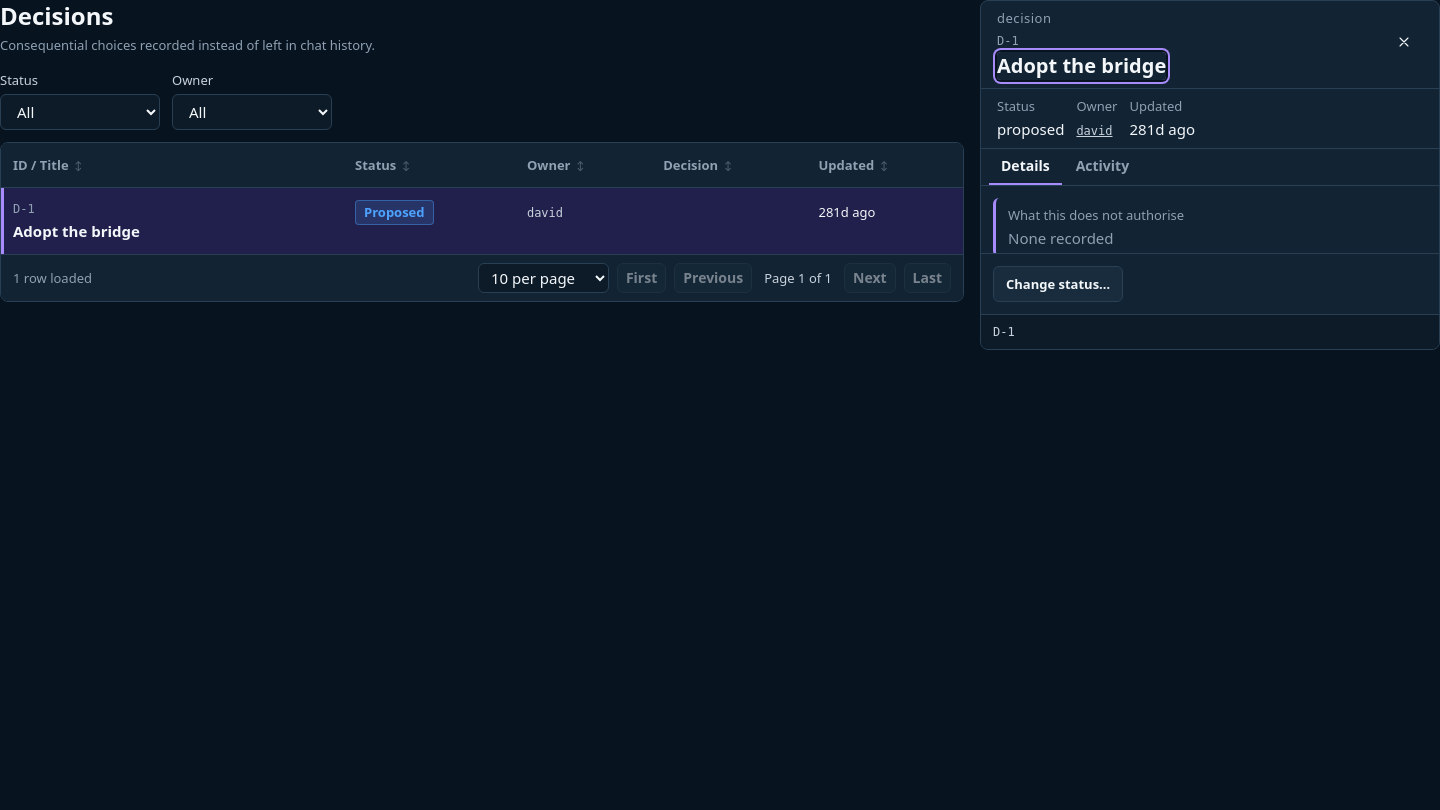
Test: the decision status dialog › returns focus to its opener after a successful submit
This screenshot has width=1440, height=810.
Click the button "Change status…" at (1058, 284), box [993,266,1123,302]
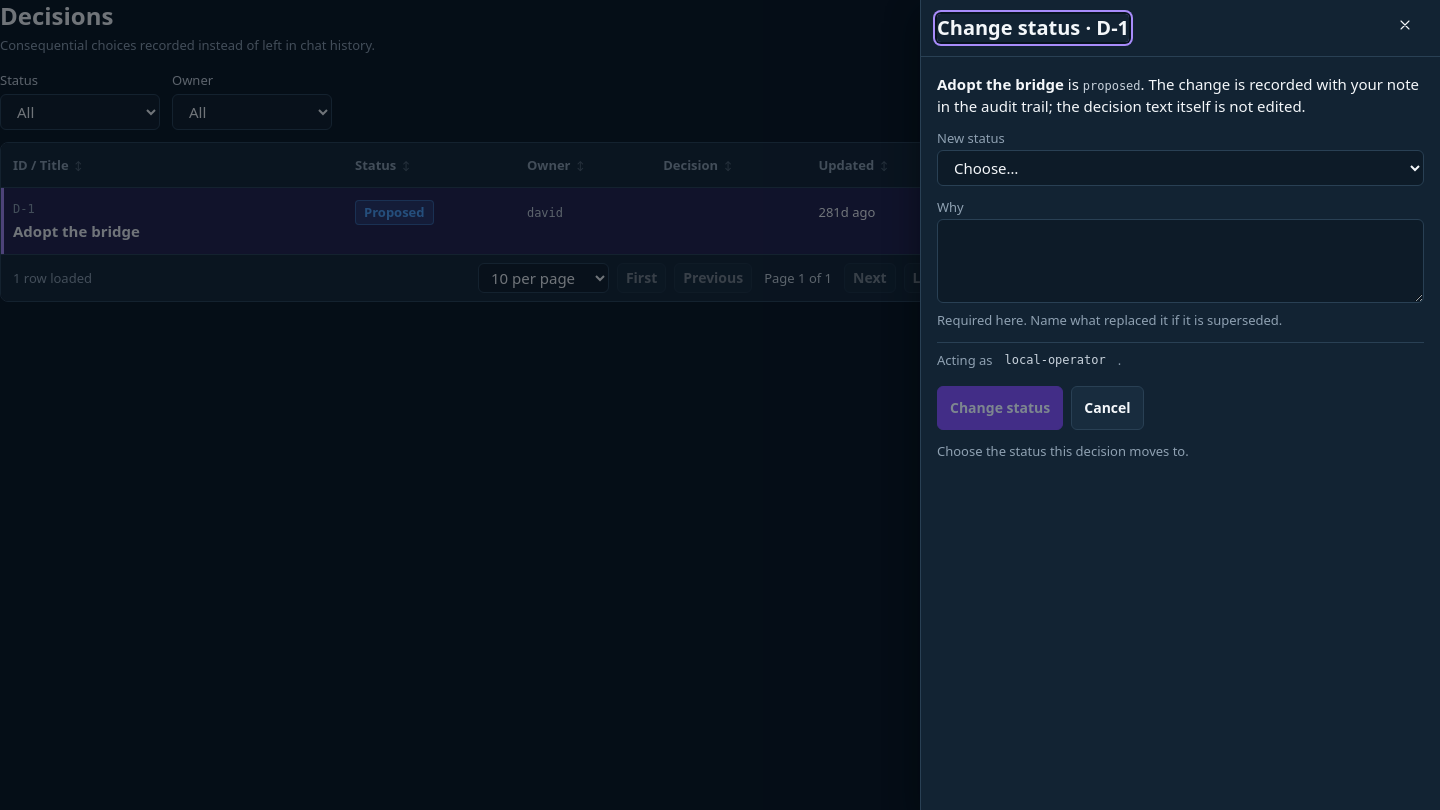
Select "superseded" in the dropdown labelled "New status" at (1180, 168), box [937,150,1424,186]
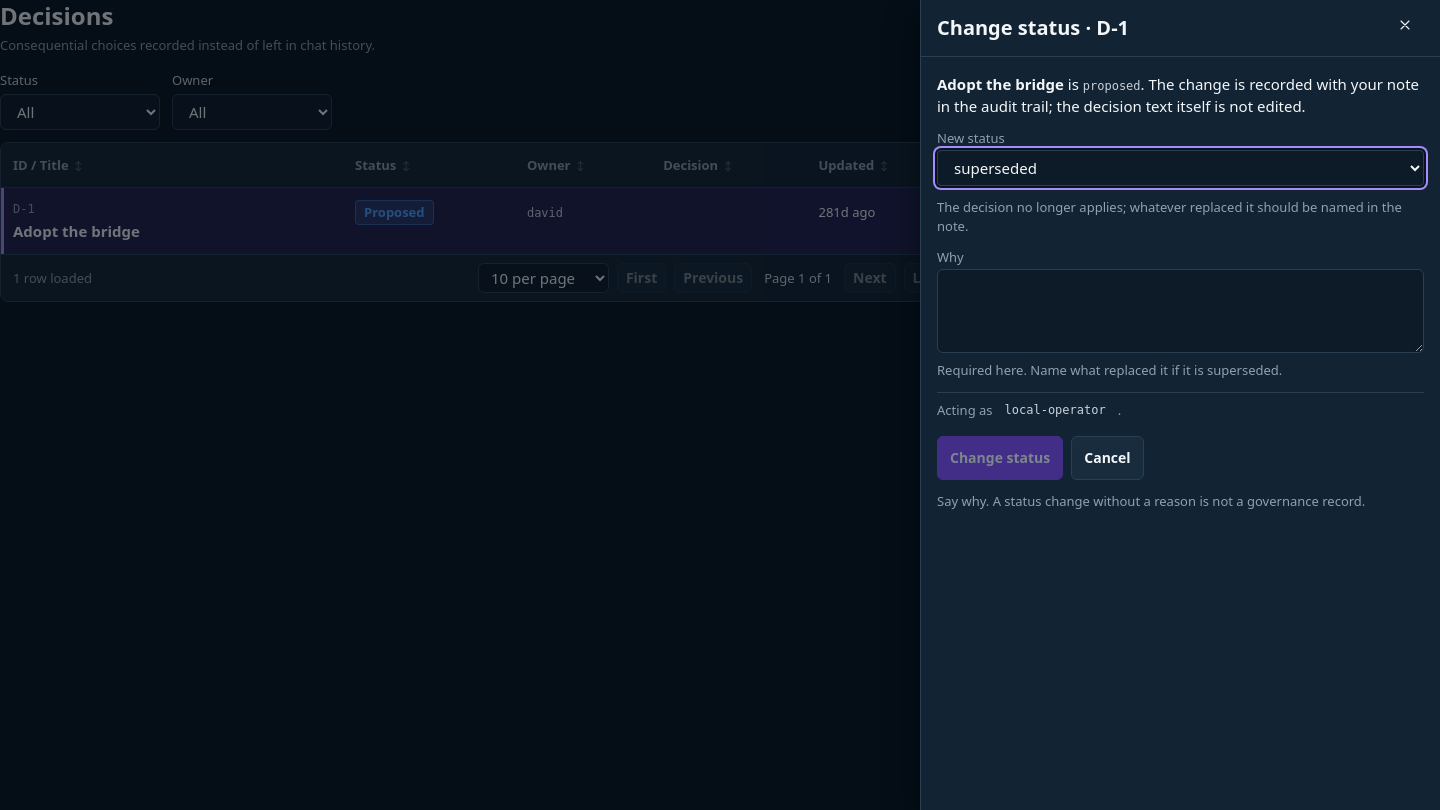
Type "Replaced." into the text box labelled "Why" at (1180, 311), box [937,269,1424,353]
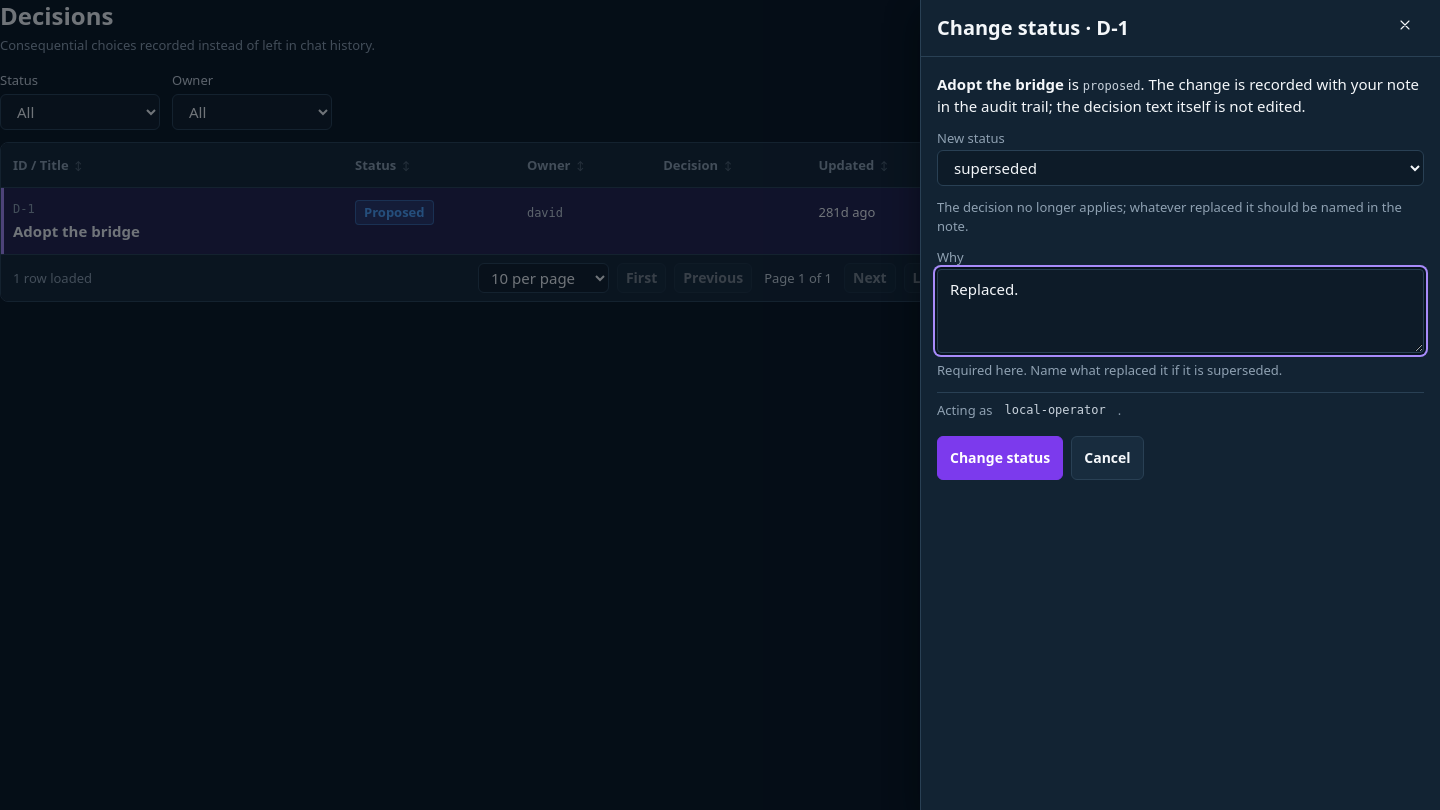
Click the button "Change status" at (1000, 458), box [937,436,1063,480]
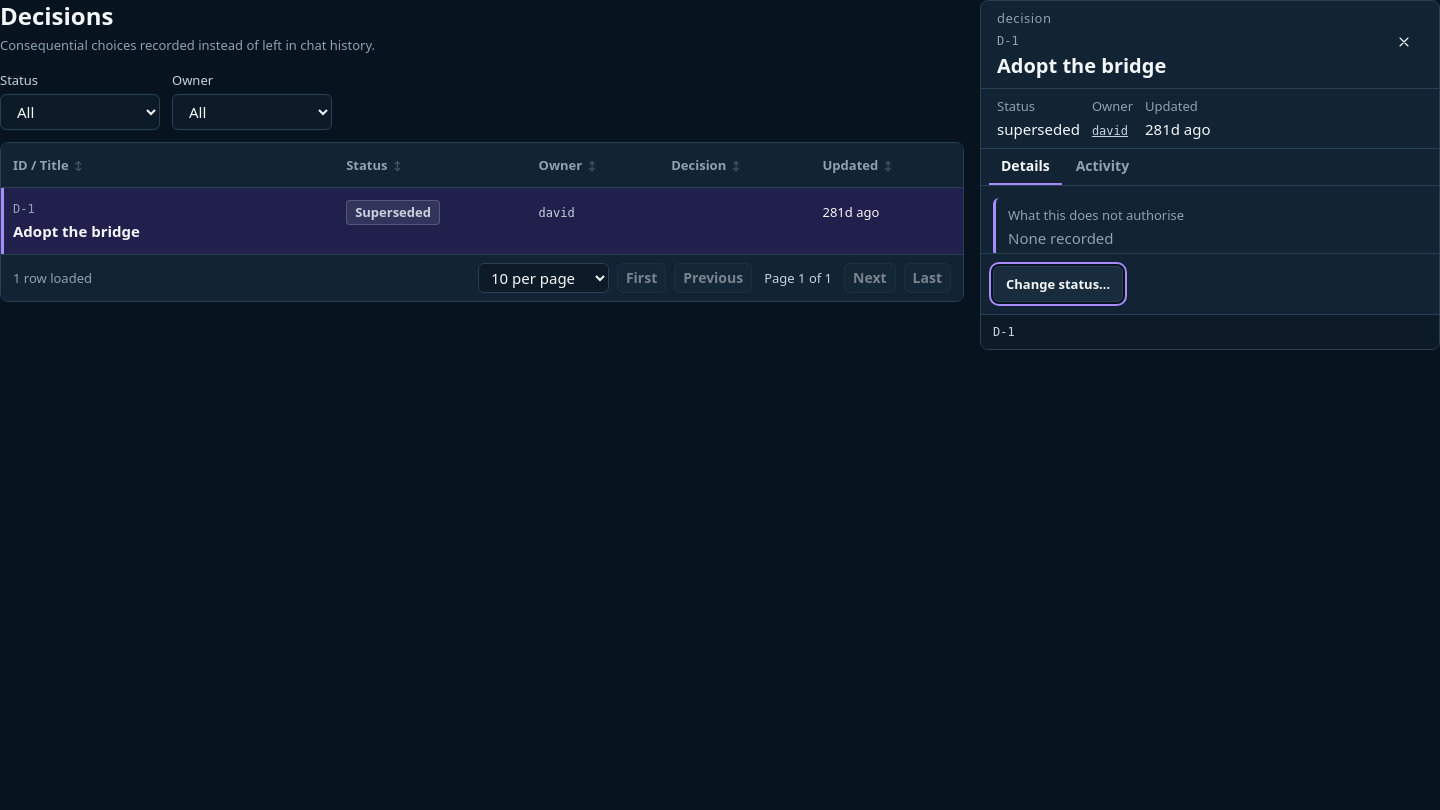
Result: the dialog is gone
